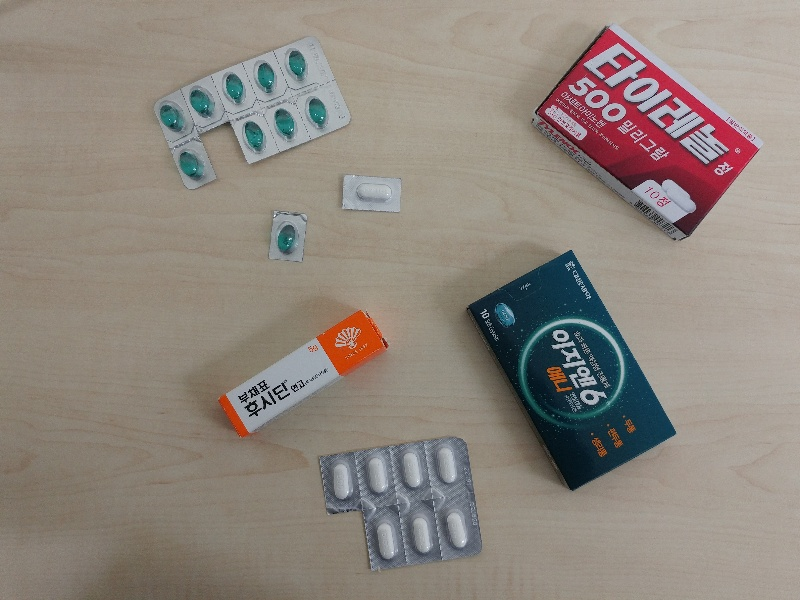ezn: (472, 251, 678, 494)
fucidin: (221, 310, 385, 435)
pill_ezn: (268, 210, 307, 262), (234, 115, 271, 166), (216, 63, 253, 112), (278, 41, 314, 90), (183, 79, 221, 123), (176, 142, 210, 189), (249, 51, 282, 99), (268, 102, 301, 148), (156, 93, 190, 136), (299, 90, 331, 135)
tylenol: (534, 25, 766, 239)
